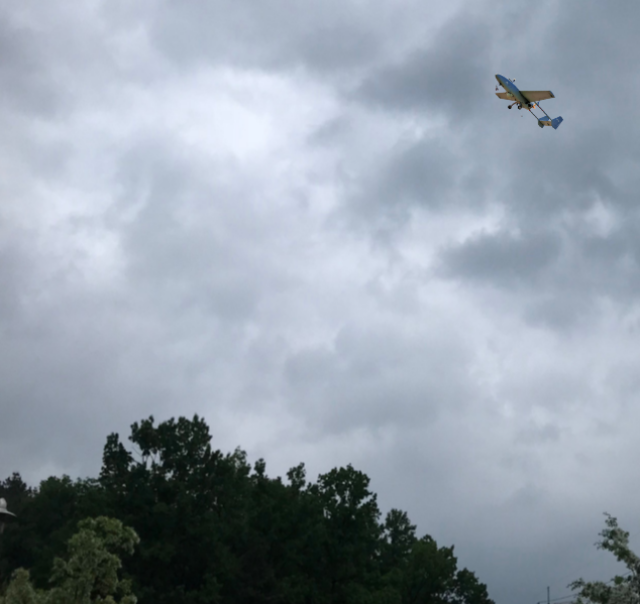military drone: (494, 73, 564, 130)
